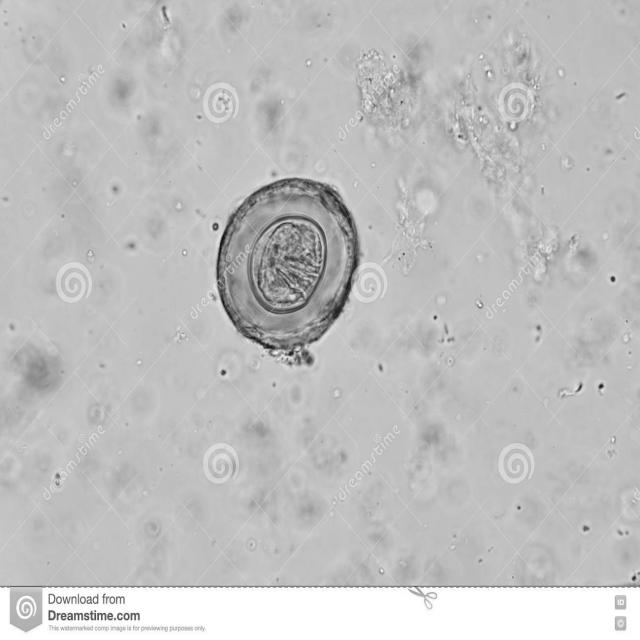Hymenolepis: (211, 172, 363, 364)
